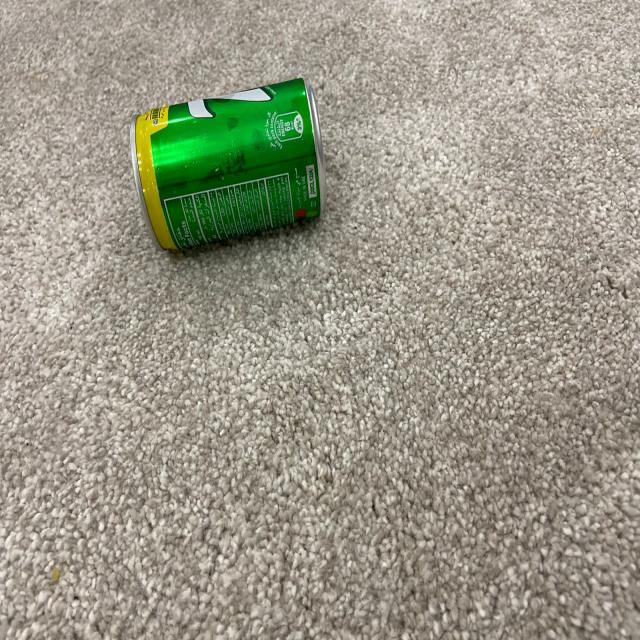can: (128, 75, 332, 262)
